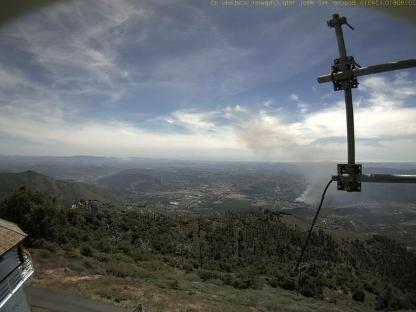smoke: (240, 118, 338, 208)
